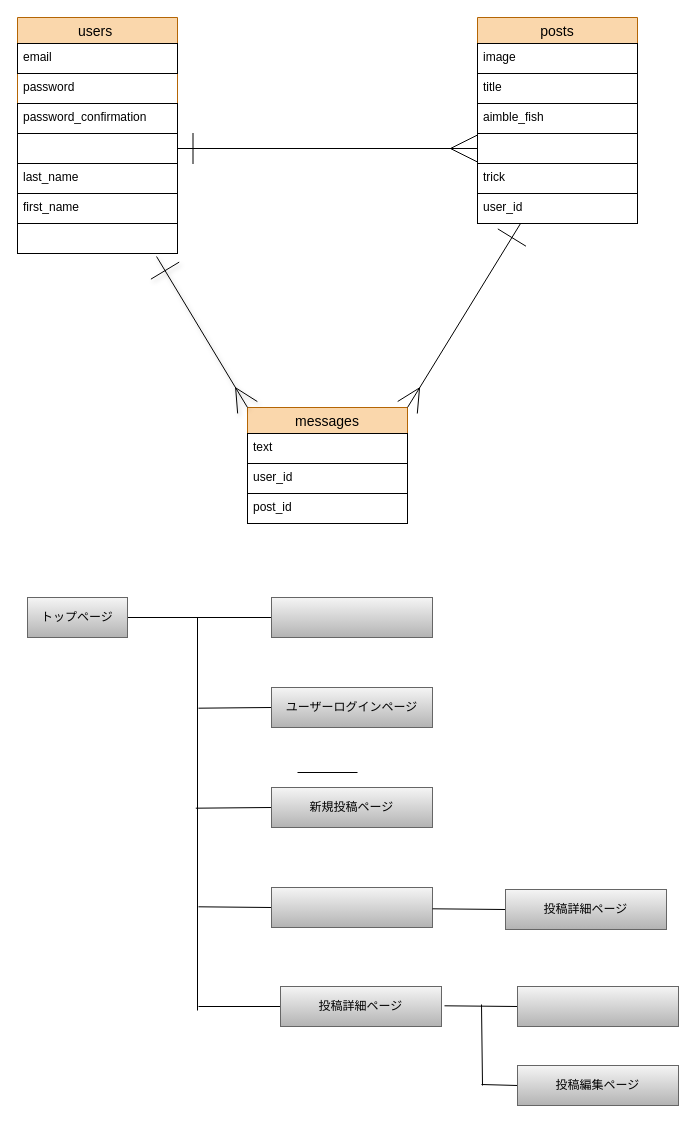
This 696x1123 diagram has some shape labels left out. Each missing label, with the centre of its shape:
"birthday(date型)" belongs at (x=97, y=238).
"nickname" belongs at (x=97, y=148).
"time_zone" belongs at (x=557, y=148).
"チャットルーム" belongs at (x=597, y=1006).
"ユーザー新規登録ページ" belongs at (x=351, y=617).
"投稿一覧ページ" belongs at (x=351, y=907).
